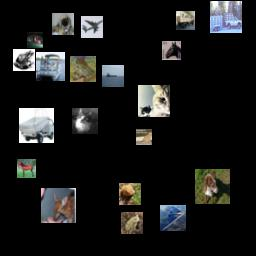airplane: (160, 205, 186, 231), (81, 16, 103, 38)
automobile: (27, 32, 43, 48)
cat: (138, 85, 170, 117), (72, 108, 98, 134), (136, 129, 152, 145)
deer: (41, 188, 76, 223)
dog: (195, 169, 230, 204), (52, 13, 74, 35)
frog: (70, 56, 96, 82), (119, 183, 141, 205), (13, 49, 35, 71), (121, 212, 143, 234)
ship: (36, 52, 65, 81), (102, 65, 124, 87)
truck: (19, 108, 54, 143), (210, 1, 242, 33), (176, 11, 195, 30)
